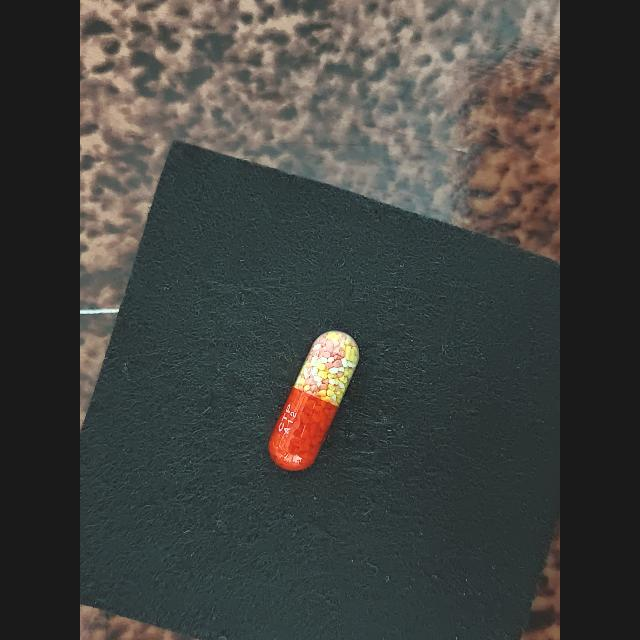Intact Capsule: (268, 331, 359, 471)
